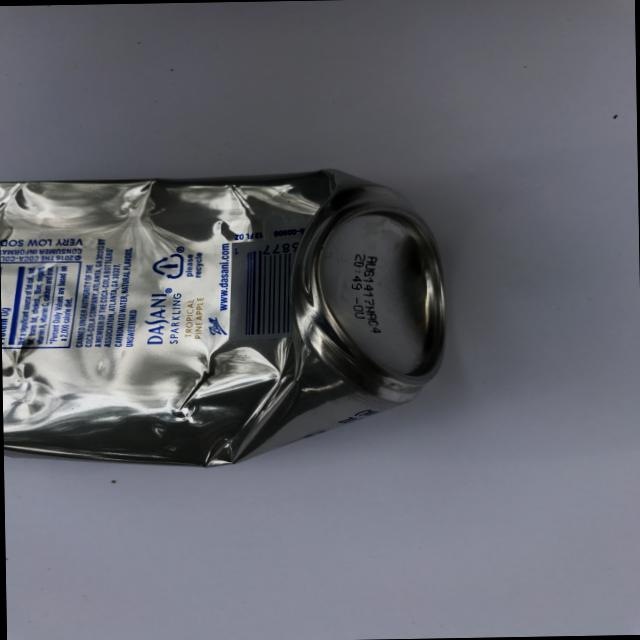Metal: (0, 153, 467, 483)
